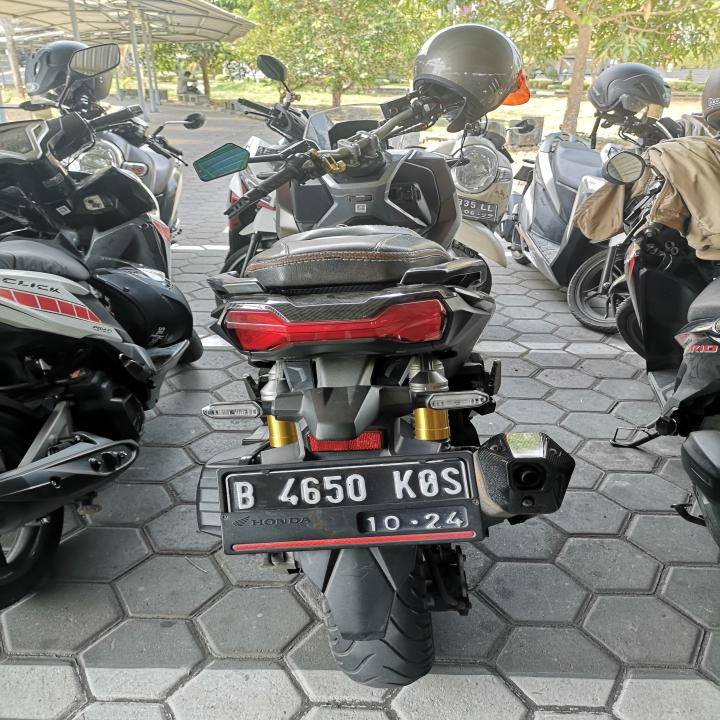plate: (221, 454, 478, 537)
